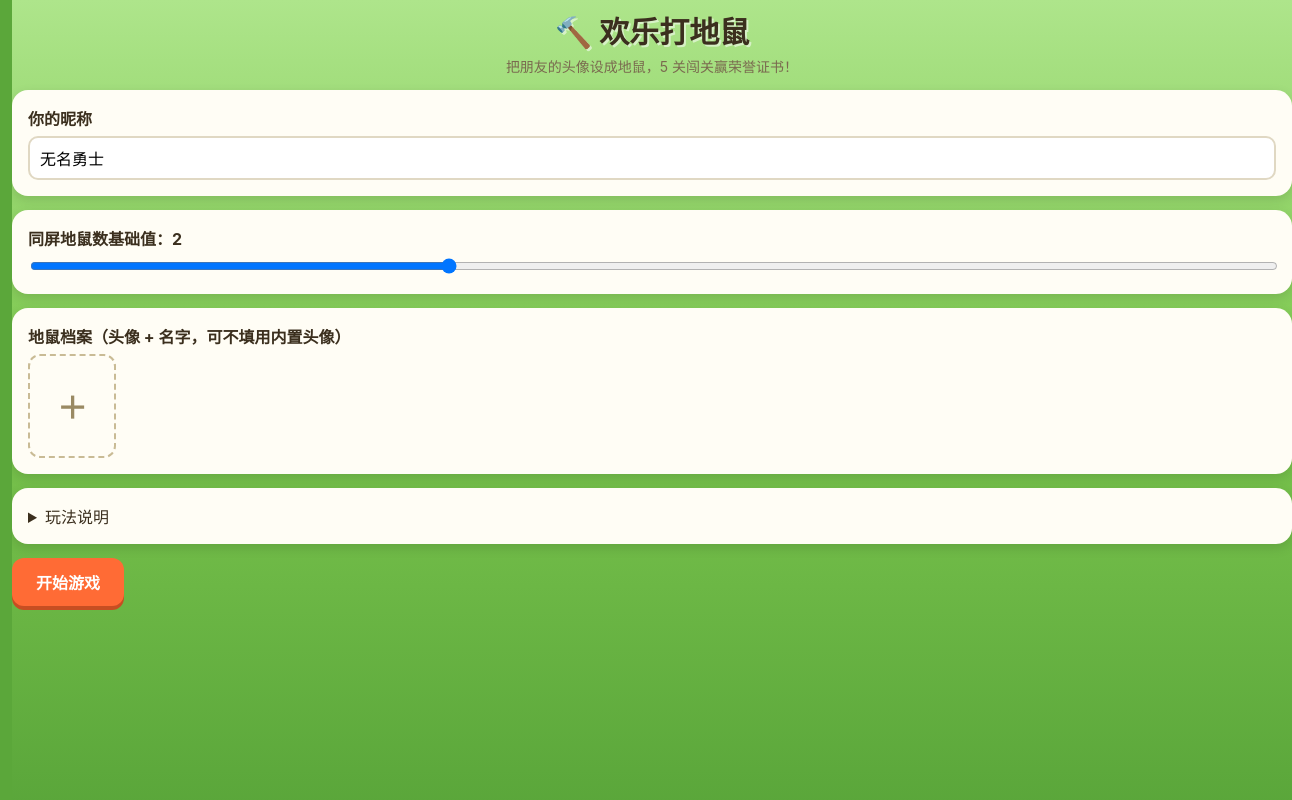
基础值调到 4 时显示硬核模式警告
Set the slider labelled "同屏地鼠数基础值：2" to "4" at (1270, 266), box [30,258,1278,274]
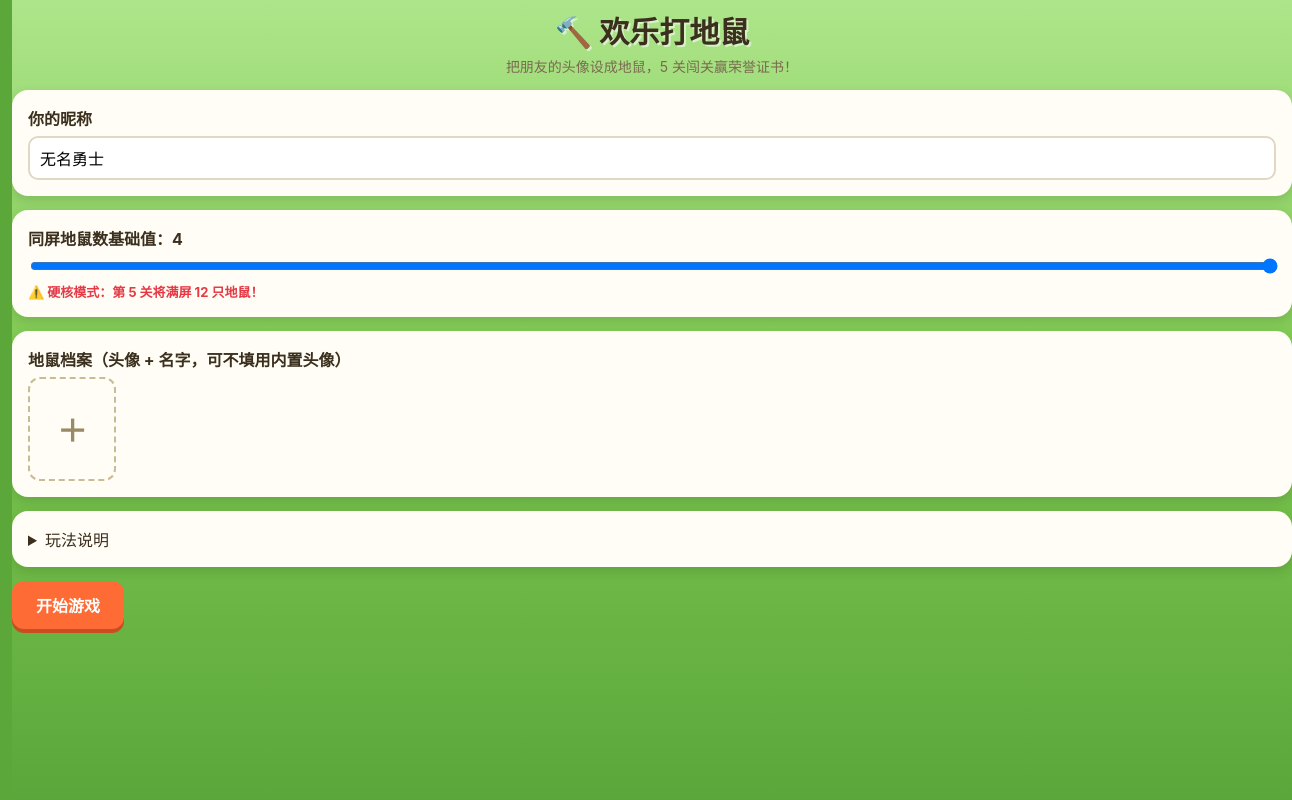
Expected: the text "⚠️ 硬核模式：第 5 关将满屏 12 只地鼠！" is shown, [28,284,264,300]
